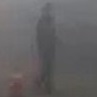person: (35, 2, 62, 92)
